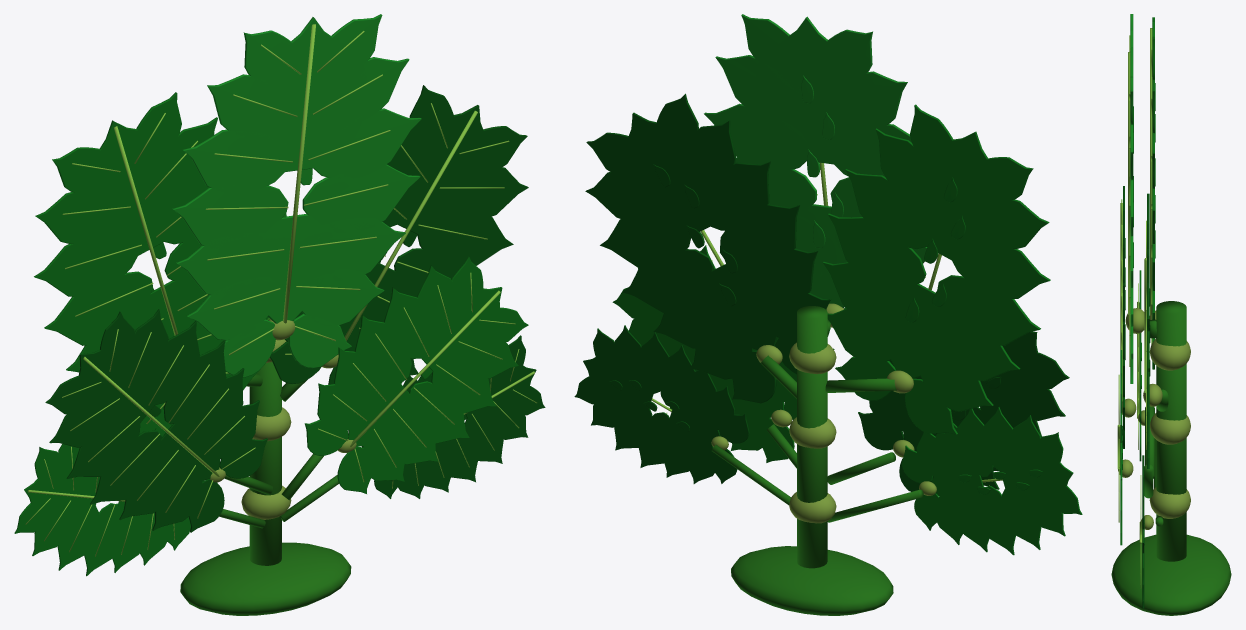
The model's file is Monstera_Deliciosa.obj.
3 views of the same model, side by side, from view 1: azimuth 30°, elevation 25°; view 2: azimuth 150°, elevation 25°; view 3: azimuth 270°, elevation 25° (orthographic). The views are drawn at different scales.
Visible parts, largest first — view 1: SM_Monstera_Gross_Mitte_Blatt_Oberes_Blattfeld, SM_Monstera_Gross_Links_Blatt_Oberes_Blattfeld, SM_Monstera_Wurzelansatz, SM_Monstera_Gross_Rechts_Blatt_Oberes_Blattfeld, SM_Monstera_Vorne_Links_Blatt_Oberes_Blattfeld, SM_Monstera_Gross_Mitte_Blatt_Unteres_Blattfeld, SM_Monstera_Vorne_Rechts_Blatt_Oberes_Blattfeld, SM_Monstera_Gross_Mitte_Blatt_Blattfinger_1_5, SM_Monstera_Gross_Mitte_Blatt_Blattfinger_1_4, SM_Monstera_Gross_Mitte_Blatt_Blattfinger_0_4, SM_Monstera_Gross_Mitte_Blatt_Blattfinger_0_5, SM_Monstera_Gross_Links_Blatt_Blattfinger_1_4 (+74 smaller); view 2: SM_Monstera_Gross_Links_Blatt_Oberes_Blattfeld, SM_Monstera_Gross_Mitte_Blatt_Oberes_Blattfeld, SM_Monstera_Wurzelansatz, SM_Monstera_Gross_Rechts_Blatt_Oberes_Blattfeld, SM_Monstera_Hauptstamm, SM_Monstera_Gross_Rechts_Blatt_Unteres_Blattfeld, SM_Monstera_Gross_Links_Blatt_Blattfinger_0_4, SM_Monstera_Gross_Links_Blatt_Blattfinger_1_4, SM_Monstera_Gross_Links_Blatt_Unteres_Blattfeld, SM_Monstera_Gross_Rechts_Blatt_Blattfinger_0_4, SM_Monstera_Gross_Rechts_Blatt_Blattfinger_1_5, SM_Monstera_Gross_Mitte_Blatt_Blattfinger_0_5 (+76 smaller); view 3: SM_Monstera_Wurzelansatz, SM_Monstera_Hauptstamm, SM_Monstera_Stammknoten_0.48, SM_Monstera_Stammknoten_0.33, SM_Monstera_Stammknoten_0.18, SM_Monstera_Gross_Links_Blatt_Helle_Mittelader, SM_Monstera_Gross_Mitte_Blatt_Helle_Mittelader, SM_Monstera_Vorne_Links_Blatt_Helle_Mittelader, SM_Monstera_Vorne_Links_Blattstiel, SM_Monstera_Gross_Mitte_Blattansatz, SM_Monstera_Vorne_Rechts_Blattstiel, SM_Monstera_Gross_Rechts_Blattansatz (+8 smaller).
Part boxes in pixels (x1,y1,x2,y2): SM_Monstera_Gross_Mitte_Blatt_Oberes_Blattfeld: (243,17,367,171); SM_Monstera_Gross_Links_Blatt_Oberes_Blattfeld: (77,120,193,259); SM_Monstera_Wurzelansatz: (180,542,351,615); SM_Monstera_Gross_Rechts_Blatt_Oberes_Blattfeld: (387,105,495,237); SM_Monstera_Vorne_Links_Blatt_Oberes_Blattfeld: (73,339,165,438); SM_Monstera_Gross_Mitte_Blatt_Unteres_Blattfeld: (253,214,327,323); SM_Monstera_Vorne_Rechts_Blatt_Oberes_Blattfeld: (416,286,502,379); SM_Monstera_Gross_Mitte_Blatt_Blattfinger_1_5: (183,129,292,193); SM_Monstera_Gross_Mitte_Blatt_Blattfinger_1_4: (172,184,288,248); SM_Monstera_Gross_Mitte_Blatt_Blattfinger_0_4: (302,164,420,232); SM_Monstera_Gross_Mitte_Blatt_Blattfinger_0_5: (309,108,421,177); SM_Monstera_Gross_Links_Blatt_Blattfinger_1_4: (44,271,152,345); SM_Monstera_Gross_Links_Blatt_Oberes_Blattfeld: (898,131,1009,263); SM_Monstera_Gross_Mitte_Blatt_Oberes_Blattfeld: (755,16,873,164); SM_Monstera_Wurzelansatz: (731,546,893,615); SM_Monstera_Gross_Rechts_Blatt_Oberes_Blattfeld: (616,112,723,238); SM_Monstera_Hauptstamm: (797,306,827,568); SM_Monstera_Gross_Rechts_Blatt_Unteres_Blattfeld: (705,264,779,350); SM_Monstera_Gross_Links_Blatt_Blattfinger_0_4: (828,213,926,288); SM_Monstera_Gross_Links_Blatt_Blattfinger_1_4: (937,275,1040,345); SM_Monstera_Gross_Links_Blatt_Unteres_Blattfeld: (882,284,952,378); SM_Monstera_Gross_Rechts_Blatt_Blattfinger_0_4: (622,249,713,312); SM_Monstera_Gross_Rechts_Blatt_Blattfinger_1_5: (699,161,770,230); SM_Monstera_Gross_Mitte_Blatt_Blattfinger_0_5: (704,103,811,170); SM_Monstera_Wurzelansatz: (1111,534,1231,615); SM_Monstera_Hauptstamm: (1156,301,1186,561); SM_Monstera_Stammknoten_0.48: (1149,338,1190,370); SM_Monstera_Stammknoten_0.33: (1149,413,1190,444); SM_Monstera_Stammknoten_0.18: (1149,487,1190,518); SM_Monstera_Gross_Links_Blatt_Helle_Mittelader: (1150,28,1152,315); SM_Monstera_Gross_Mitte_Blatt_Helle_Mittelader: (1128,51,1130,314); SM_Monstera_Vorne_Links_Blatt_Helle_Mittelader: (1120,203,1122,401); SM_Monstera_Vorne_Links_Blattstiel: (1145,406,1154,478); SM_Monstera_Gross_Mitte_Blattansatz: (1125,308,1144,333); SM_Monstera_Vorne_Rechts_Blattstiel: (1144,464,1153,498); SM_Monstera_Gross_Rechts_Blattansatz: (1143,383,1162,406).
Bounding box in the file's own units: 1.06 × 1.13 × 0.22.
